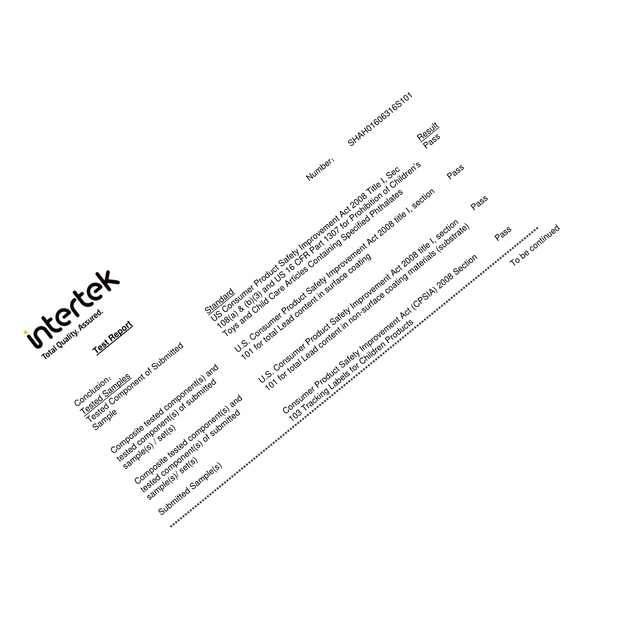intertek: (20, 268, 122, 351)
